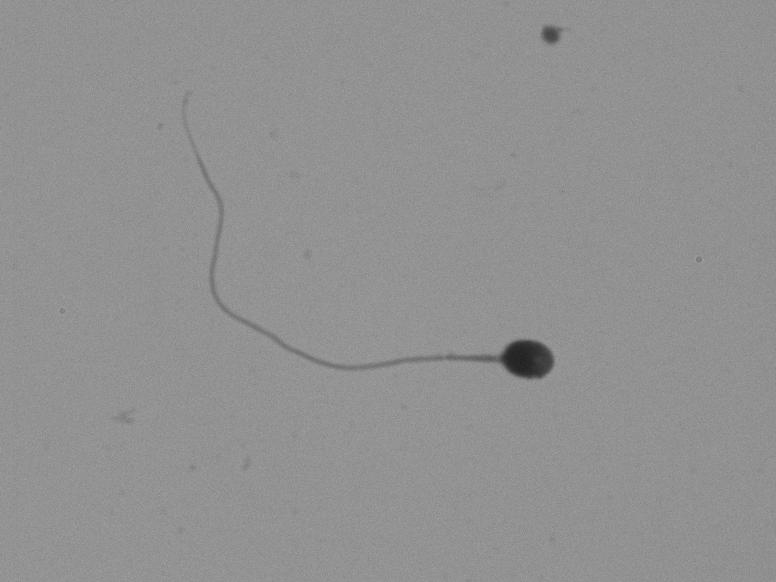Normal: (151, 186, 612, 421)
